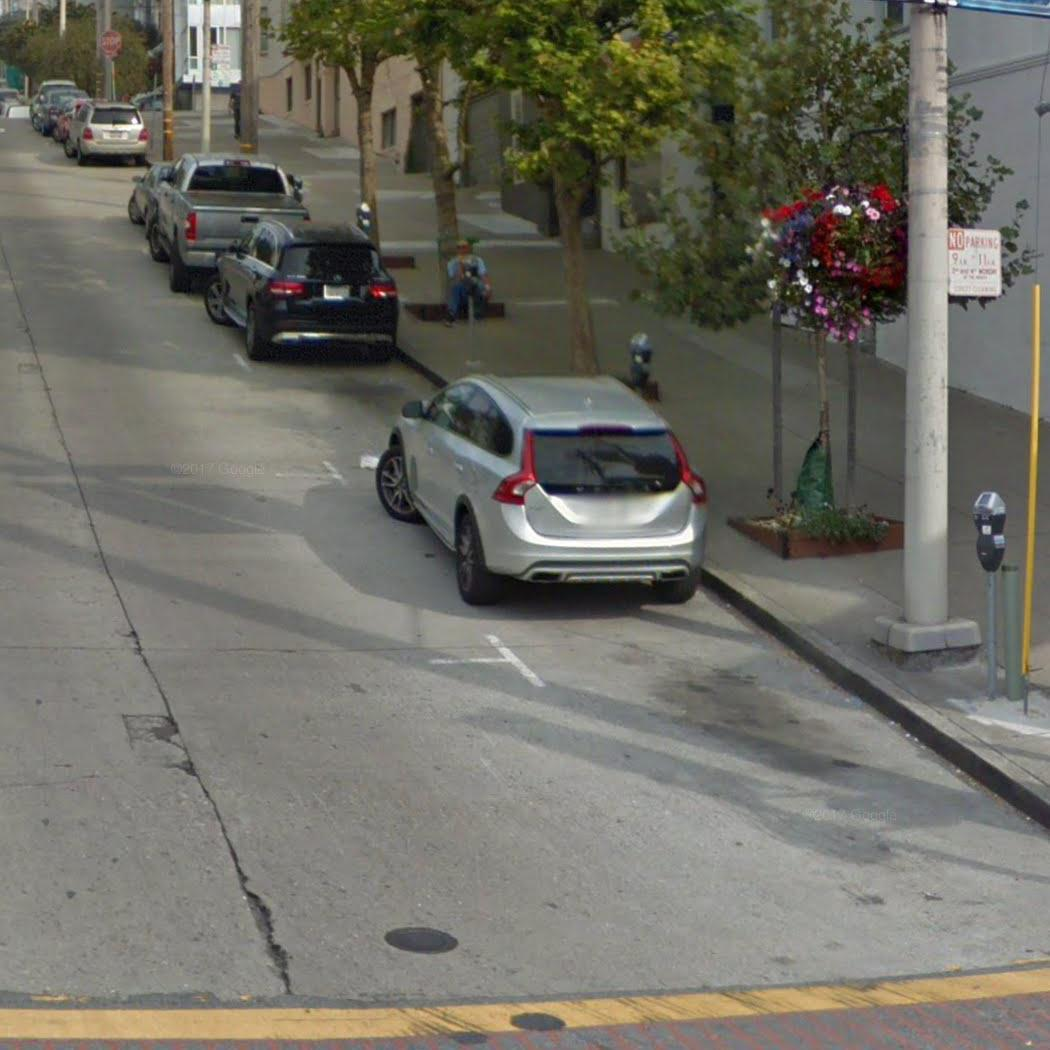No Parking: (943, 225, 1005, 302)
